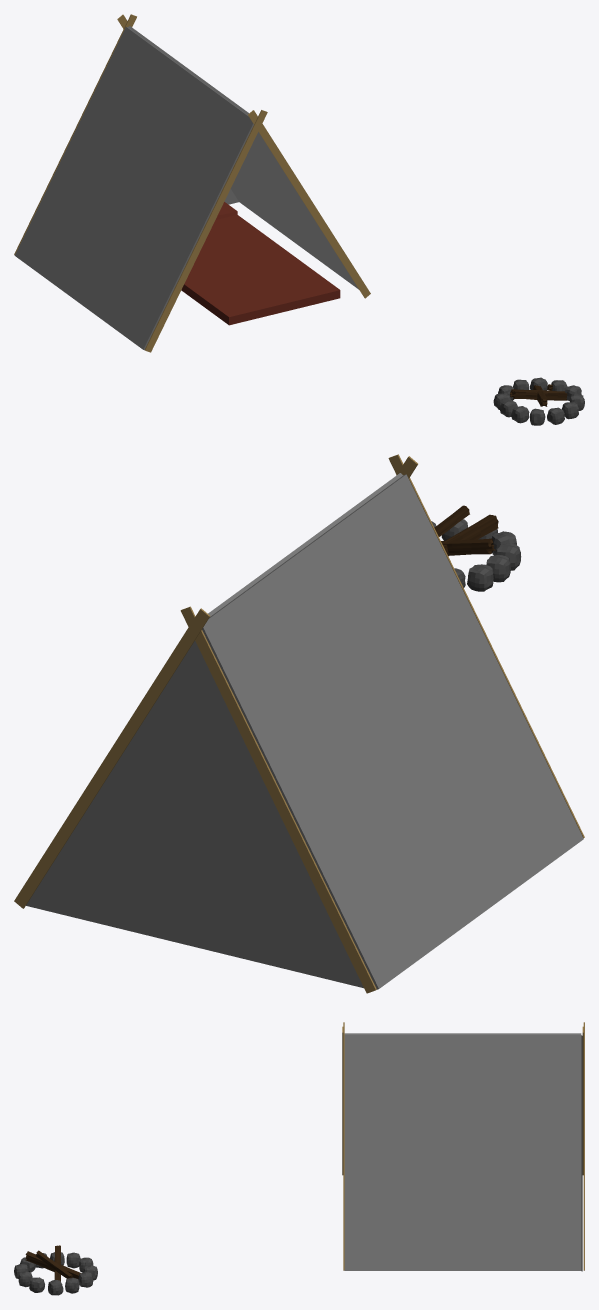
The model's file is feu.gltf.
3 views of the same model, one above another, from view 1: azimuth 30°, elevation 25°; view 2: azimuth 150°, elevation 25°; view 3: azimuth 270°, elevation 25° (orthographic). The views are drawn at different scales.
Parts seen in each view (by area): view 1: tente, sacouchage, feu; view 2: tente, feu; view 3: tente, feu.
Boxes of the visible parts, x1,y1,x2,y2 form: tente: [14, 14, 370, 352]; sacouchage: [181, 202, 340, 325]; feu: [493, 377, 584, 425]; tente: [14, 454, 584, 993]; feu: [431, 505, 521, 591]; tente: [342, 1022, 584, 1271]; feu: [14, 1245, 97, 1295].
Size of the model in its own units: 2.52 by 1.87 by 4.82.
